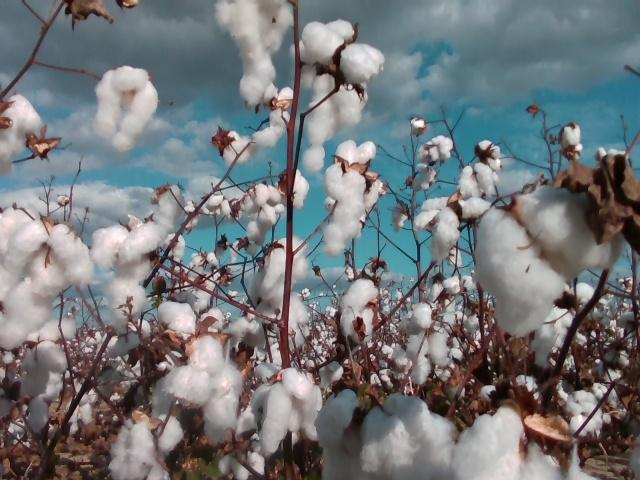cotton_ready: (474, 183, 612, 335), (292, 19, 385, 171), (324, 391, 457, 480), (458, 407, 604, 480), (153, 336, 244, 439), (217, 0, 294, 104), (20, 320, 79, 440), (0, 205, 49, 348), (92, 224, 164, 319), (5, 224, 92, 296), (253, 369, 324, 454), (324, 141, 376, 251), (94, 65, 159, 152), (532, 282, 596, 363), (111, 414, 184, 480), (415, 199, 491, 260), (248, 237, 307, 305), (402, 300, 450, 383), (216, 404, 266, 480), (0, 92, 44, 176), (252, 292, 311, 351), (156, 301, 221, 340), (341, 279, 378, 346), (254, 86, 294, 147), (235, 185, 284, 231), (173, 266, 221, 307), (565, 389, 601, 437), (107, 317, 149, 358), (155, 185, 186, 234), (459, 162, 500, 197), (283, 169, 307, 208), (221, 131, 252, 160)
